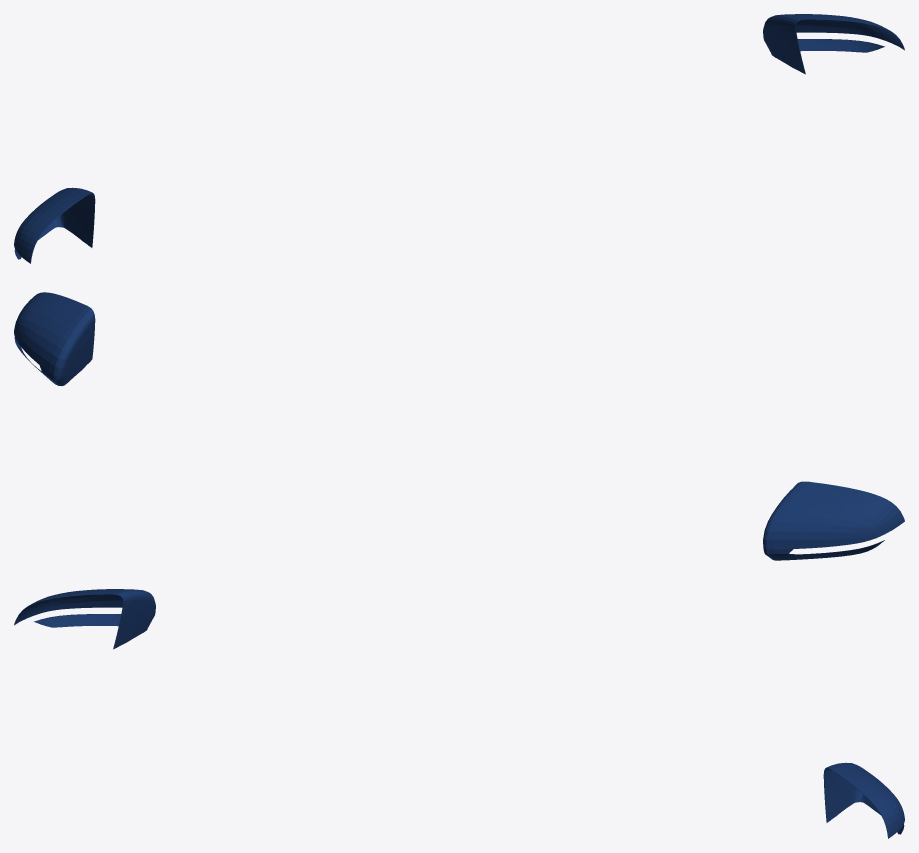
File: mr_paint.glb
3 renders of one model, top to bottom at view 1: azimuth 30°, elevation 25°; view 2: azimuth 150°, elevation 25°; view 3: azimuth 330°, elevation 25°, orthographic.
Visible parts, largest first — view 1: Mr_paint; view 2: Mr_paint; view 3: Mr_paint.
Boxes of the visible parts, left/top/right/bottom form: Mr_paint: left=14, top=14, right=904, bottom=263; Mr_paint: left=14, top=292, right=904, bottom=560; Mr_paint: left=14, top=589, right=904, bottom=838.
Bounding box in the file's own units: 1.89 × 0.1172 × 0.217.
